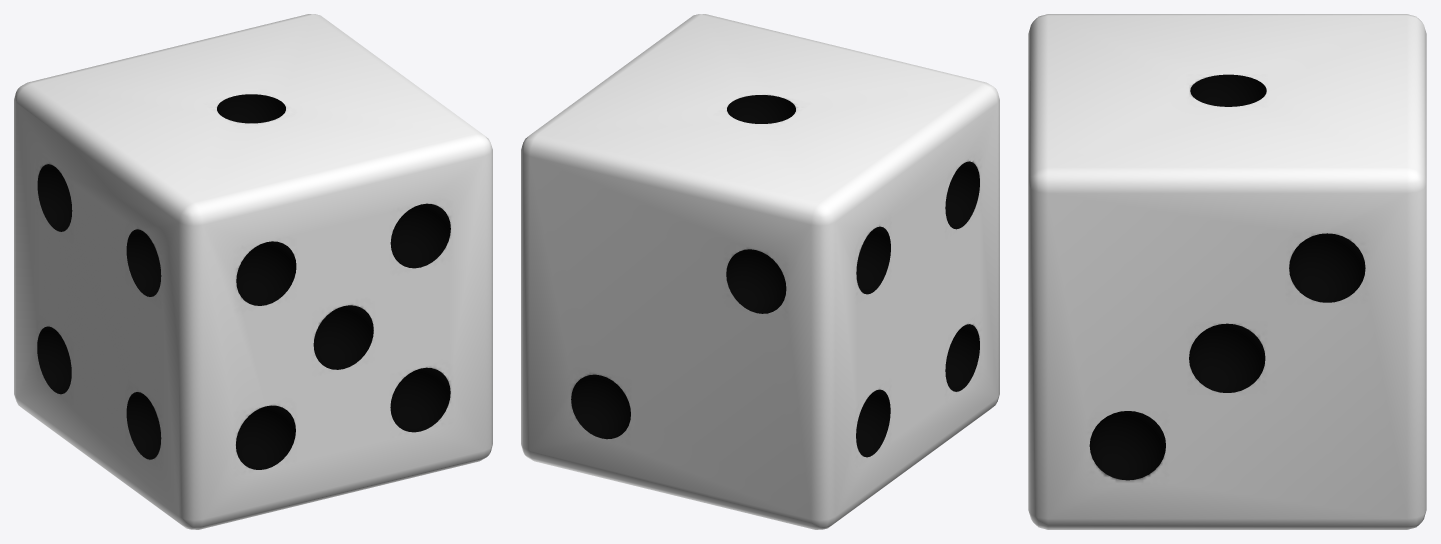
File: DiceAnimator #168282.fbx
The picture shows the model from 3 angles, left to right: view 1: azimuth 30°, elevation 25°; view 2: azimuth 150°, elevation 25°; view 3: azimuth 270°, elevation 25°; orthographic projection. The views are drawn at different scales.
Visible parts, largest first — view 1: Dice; view 2: Dice; view 3: Dice.
Part boxes in pixels (x1,y1,x2,y2): Dice: (14,14,492,529); Dice: (521,14,999,529); Dice: (1028,14,1426,529).
Size of the model in its own units: 110 by 110 by 110.
